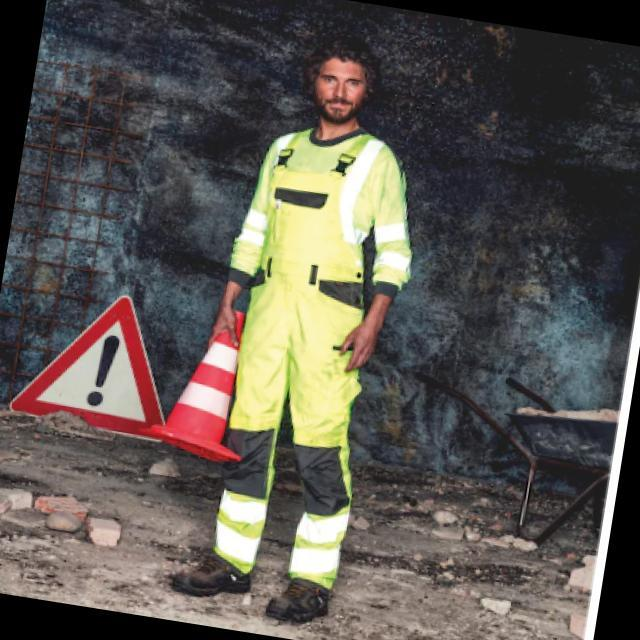boots: (164, 540, 345, 635)
vest: (237, 114, 402, 315)
